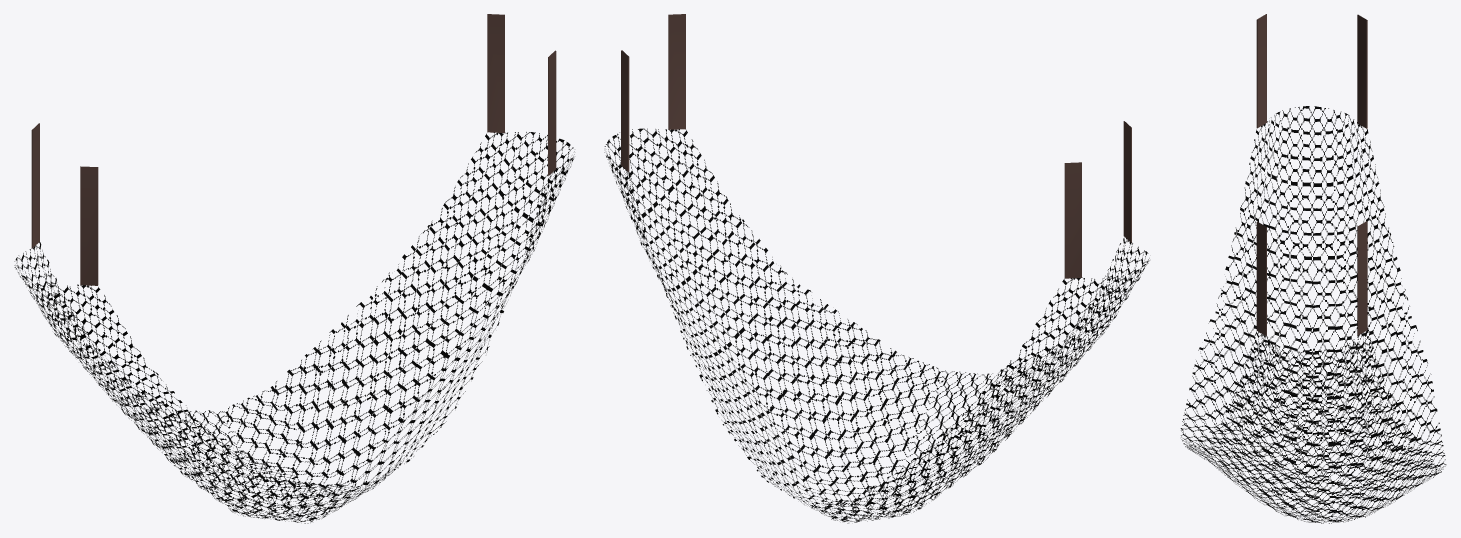
The model's file is Fishnet_Model.fbx.
3 renders of one model, left to right at view 1: azimuth 30°, elevation 25°; view 2: azimuth 150°, elevation 25°; view 3: azimuth 270°, elevation 25°, orthographic. The views are drawn at different scales.
Visible parts, largest first — view 1: fishnet; view 2: fishnet; view 3: fishnet.
Boxes of the visible parts, left/top/right/bottom form: fishnet: left=14, top=14, right=574, bottom=523; fishnet: left=604, top=14, right=1149, bottom=523; fishnet: left=1180, top=14, right=1446, bottom=523.
Size of the model in its own units: 5.19 by 3.91 by 2.4.
